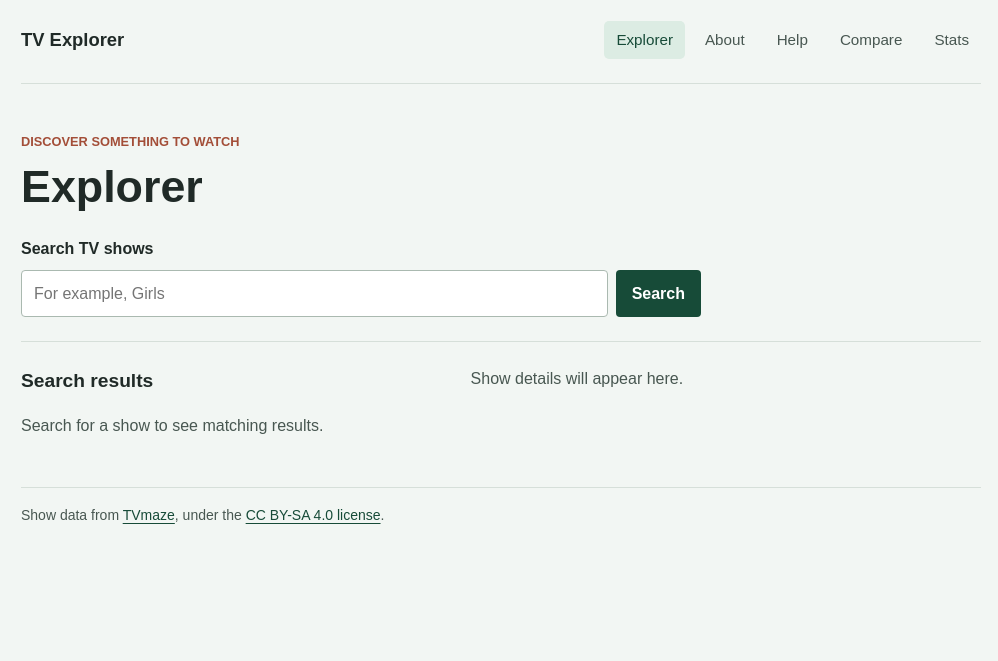
app navigation › asks for one more show when only one of two results is selected
The width and height of the screenshot is (998, 661).
Type "shows" into the search field labelled "Search TV shows" at (314,294), box [21,270,608,318]
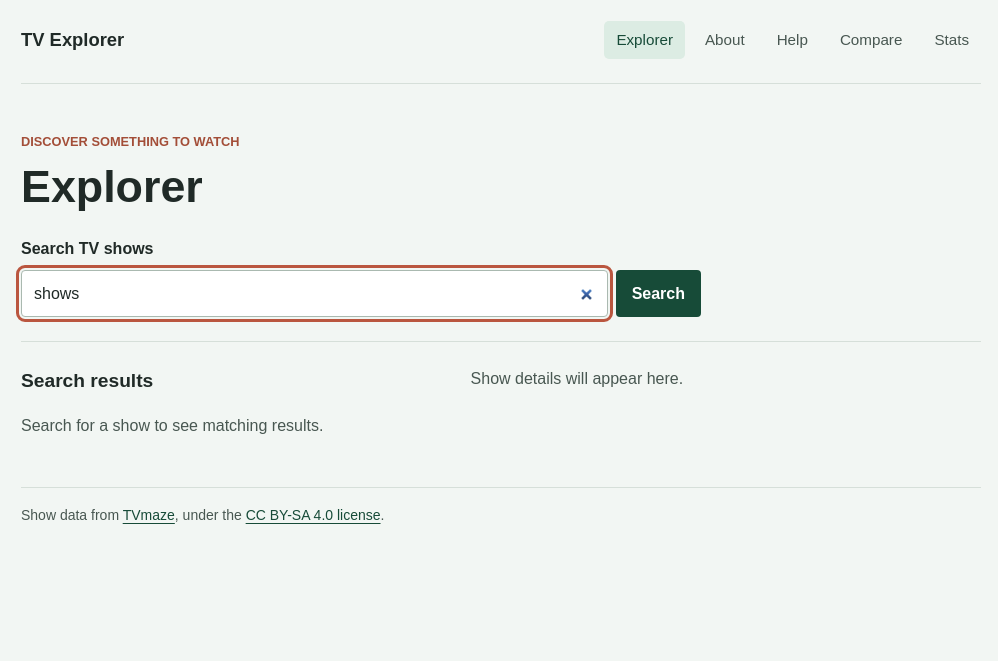
Click the button "Search" at (658,294), box [616,270,701,318]
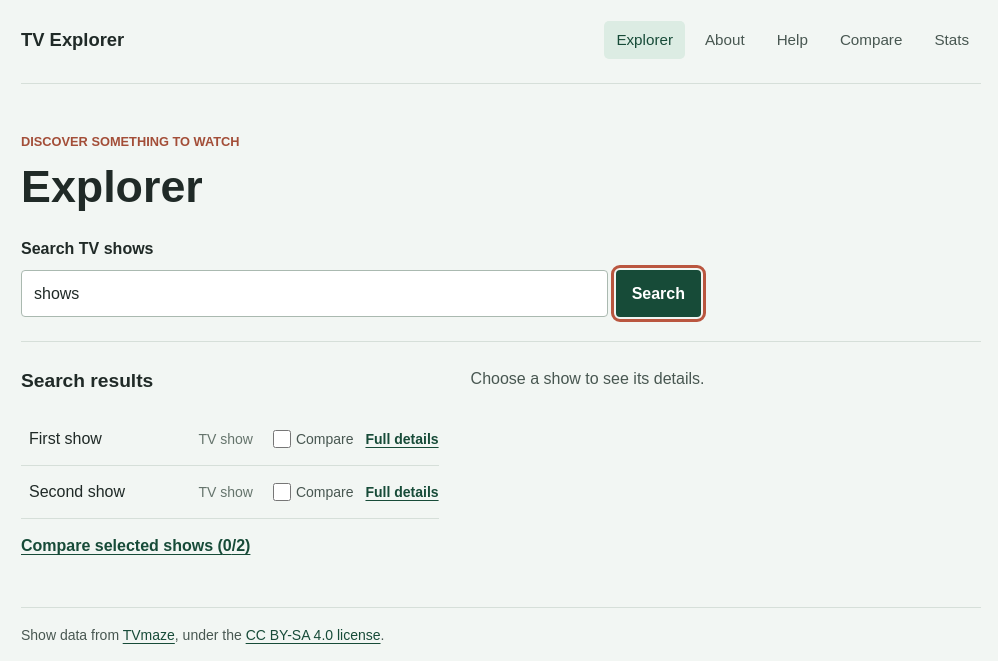
expect the checkbox named "Compare First show in comparison" is shown: met
Click the checkbox named "Compare First show in comparison" at (282,439), box [273,430,291,448]
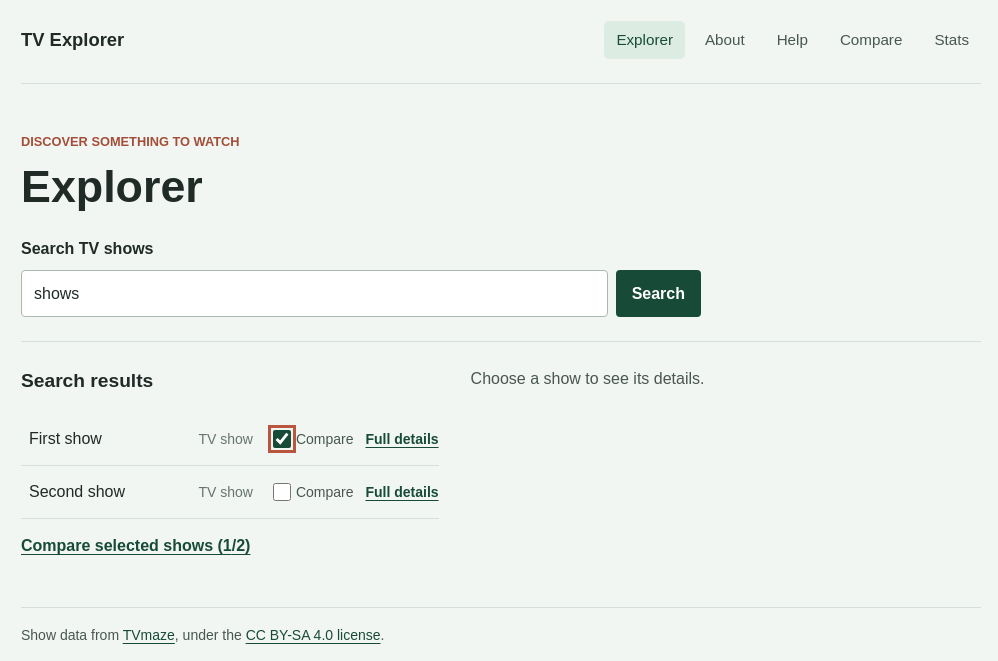
Click the link "Compare" at (871,40), box [840,31,902,48]
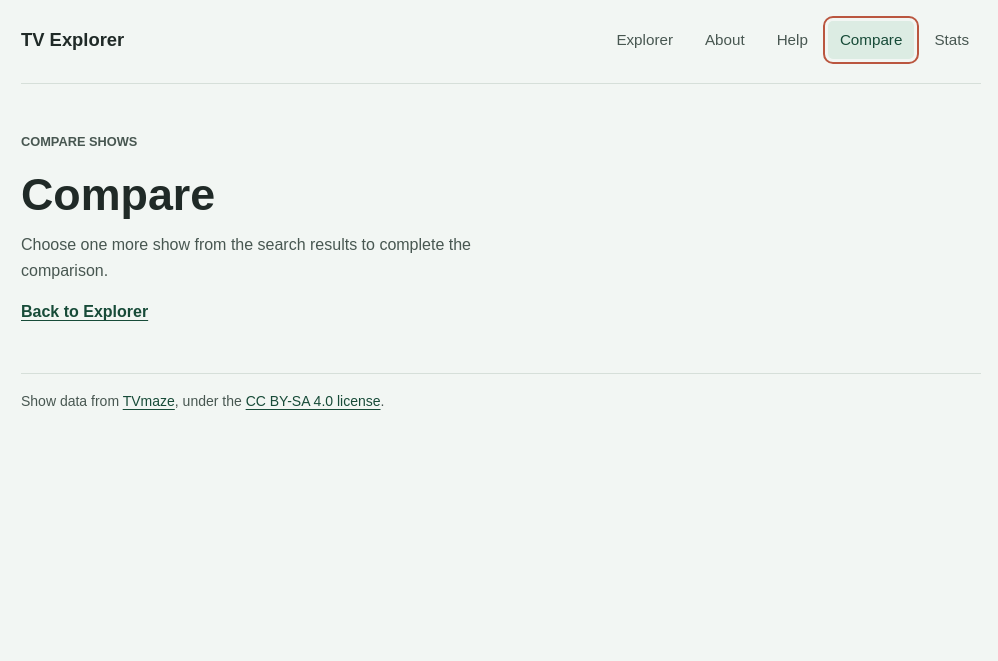
expect the text "Choose one more show" is shown: met, box [21,236,471,279]
